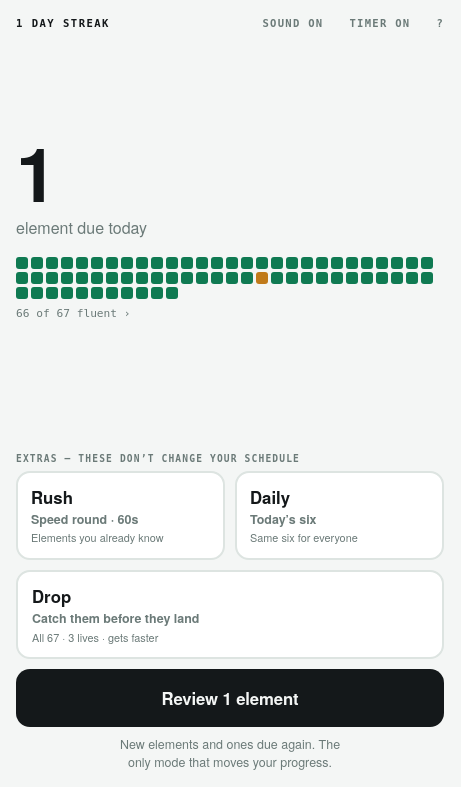
Test case: the exercise ladder › asks a box-2 element with Reverse
Click the button "Review 1 element": click(230, 698) 16,669 -> 444,727
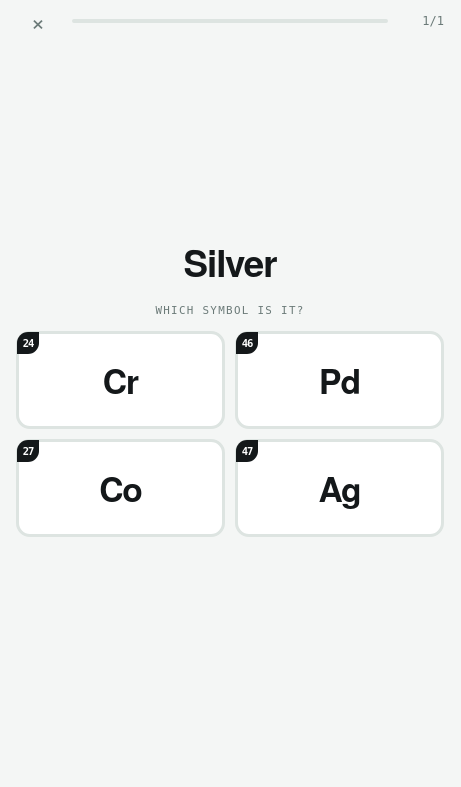
Now the text "Silver" is shown, box 184,236 -> 276,288
